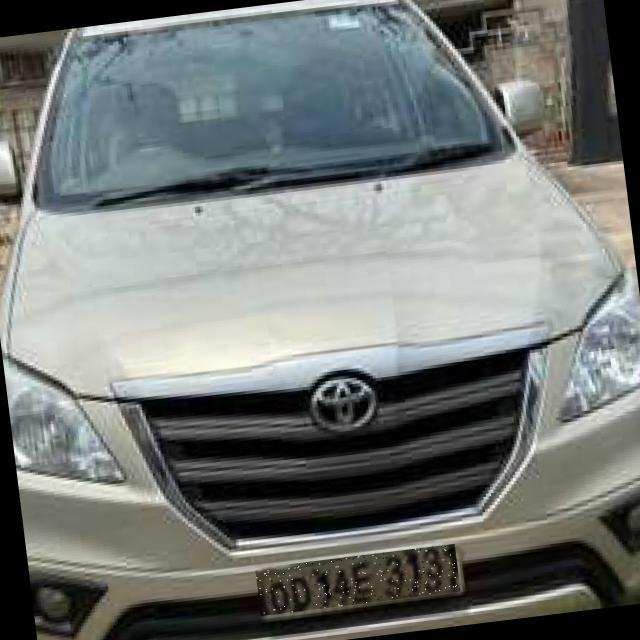Plate: (256, 545, 461, 617)
